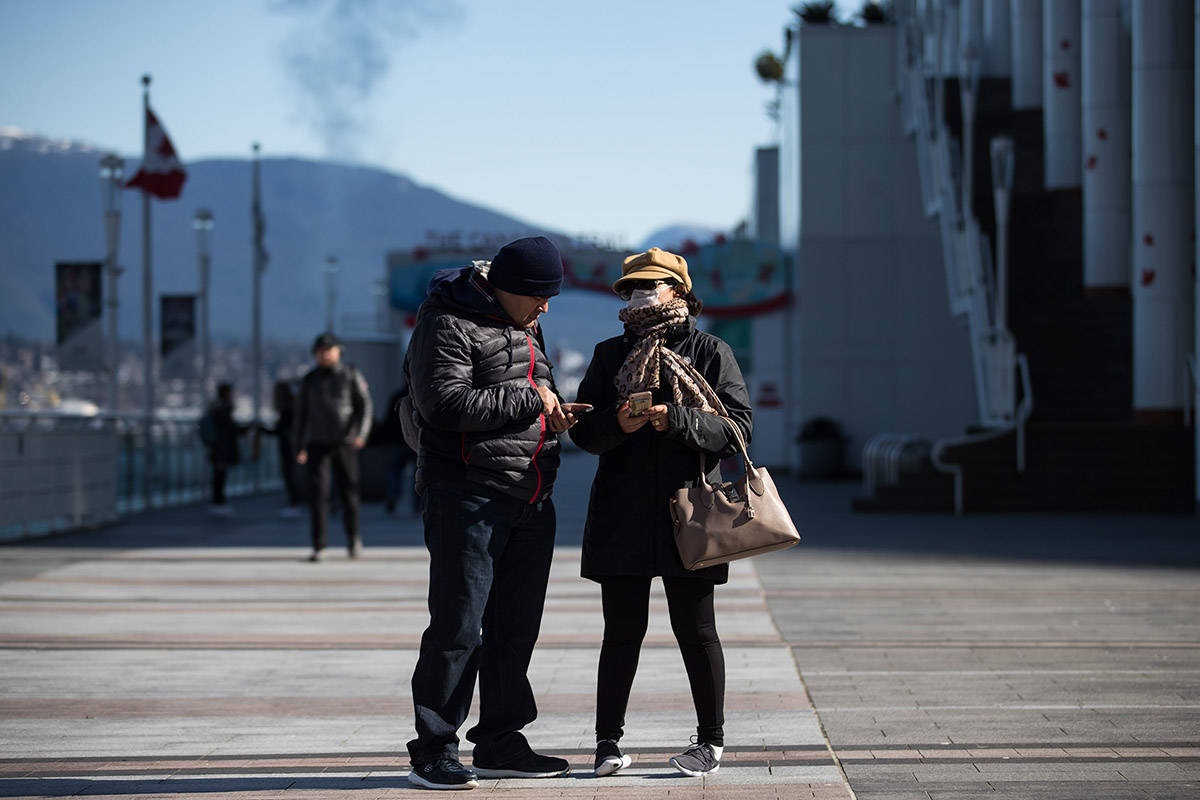Person: (399, 236, 577, 792), (576, 246, 754, 775)
